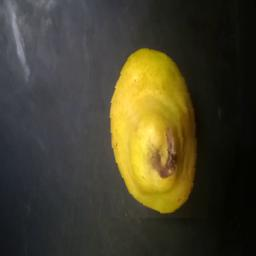Pear Fresh: (89, 34, 208, 218)
